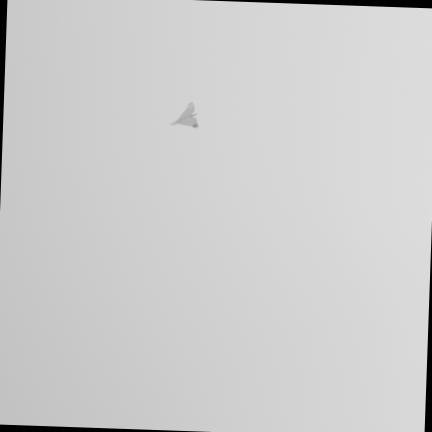Shahed: (171, 102, 198, 126)
